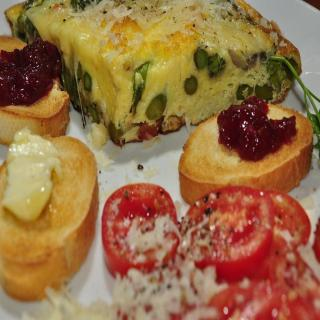tomato: (138, 183, 306, 289)
